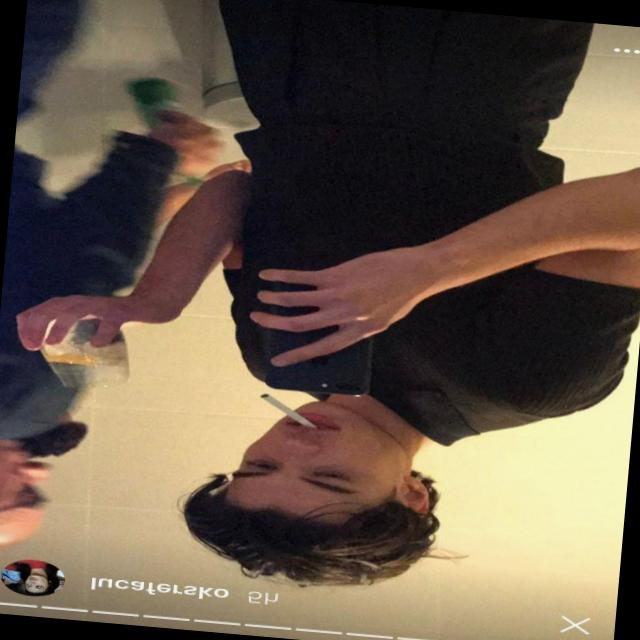cigarette: (242, 383, 313, 438)
